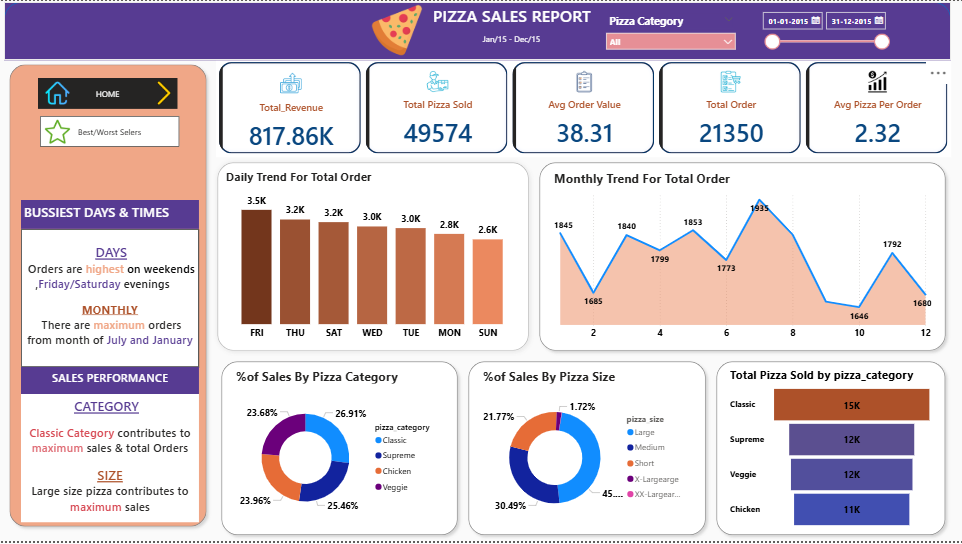

What the dashboard file says about the page in this screenshot:
{"tool":"powerbi","page":{"name":"HOME","canvas":[1580,880],"ordinal":0},"visuals":[{"type":"cardVisual","fields":{"Data":["pizza_sales.Total_Revenue","pizza_sales.Total Pizza Sold","pizza_sales.Avg Order Value","pizza_sales.Total Order","pizza_sales.Avg Pizza Per Order"]},"box":[360.2,95.1,1197.7,159.7],"z":0},{"type":"shape","box":[14.7,1.6,1543.3,94.5],"z":1000},{"type":"textbox","box":[695.9,0,293.3,48.9],"z":2000},{"type":"textbox","box":[779,47.3,125.5,32.6],"z":3000},{"type":"image","box":[565.5,0,179.3,94.5],"z":4000},{"type":"shape","box":[353.4,254.8,525,324.5],"z":5000},{"type":"columnChart","title":"Daily Trend For Total  Order","fields":{"Category":["pizza_sales.Order Day"],"Y":["pizza_sales.Total Order"]},"box":[371.6,273.8,487.3,286.8],"z":6000},{"type":"shape","box":[878.3,254.8,679.6,324.5],"z":7000},{"type":"areaChart","title":"Monthly Trend For Total Order","fields":{"Category":["pizza_sales.Month Number"],"Y":["pizza_sales.Total Order"]},"box":[905.5,273.5,625.2,287.1],"z":8000},{"type":"shape","box":[360.2,579.3,402.6,300.7],"z":9000},{"type":"shape","box":[762.8,579.3,404.3,300.7],"z":10000},{"type":"shape","box":[1167.2,579.3,390.8,300.7],"z":11000},{"type":"donutChart","title":"%of Sales By Pizza Category","fields":{"Category":["pizza_sales.pizza_category"],"Y":["pizza_sales.Total_Revenue"]},"box":[387.4,596.3,344.9,268.4],"z":12000},{"type":"donutChart","title":"%of Sales By Pizza Size","fields":{"Y":["pizza_sales.Total_Revenue"],"Category":["pizza_sales.pizza_size"]},"box":[790,596.3,344.9,268.4],"z":13000},{"type":"funnel","fields":{"Category":["pizza_sales.pizza_category"],"Y":["pizza_sales.Total Pizza Sold"]},"box":[1192.6,596.3,339.8,268.4],"z":14000},{"type":"shape","box":[14.7,94.5,339,770.8],"z":15000},{"type":"textbox","box":[42.4,324.3,290.1,47.3],"z":16000},{"type":"textbox","box":[42.4,371.6,290.1,224.9],"z":17000},{"type":"textbox","box":[42.4,596.4,290.1,44],"z":18000},{"type":"textbox","box":[42.4,640.4,290.1,208.6],"z":19000},{"type":"slicer","fields":{"Values":["pizza_sales.pizza_category"]},"box":[985.9,13,231.4,66.8],"z":20000},{"type":"slicer","fields":{"Values":["pizza_sales.order_date"]},"box":[1238.5,8.1,228.1,81.5],"z":21000},{"type":"pageNavigator","box":[69.7,125.7,227.7,51],"z":22000},{"type":"pageNavigator","box":[73.1,186.9,227.7,51],"z":23000},{"type":"image","box":[251.4,125.7,49.3,49.3],"z":24000},{"type":"image","box":[73.1,125.7,56.1,49.3],"z":24001},{"type":"image","box":[73.1,186.9,56.1,51],"z":24002}]}

Visuals, with their boxes in screenshot pixels (x1, y1, x2, y2), scaled from the page's 1580x880 canvas onto the 962x544 screenshot:
cardVisual - pizza_sales.Total_Revenue x pizza_sales.Total Pizza Sold: 219:59:949:158
shape: 9:1:949:59
textbox: 424:0:602:30
textbox: 474:29:551:49
image: 344:0:453:58
shape: 215:158:535:358
"Daily Trend For Total  Order" columnChart: 226:169:523:347
shape: 535:158:949:358
"Monthly Trend For Total Order" areaChart: 551:169:932:347
shape: 219:358:464:543
shape: 464:358:711:543
shape: 711:358:949:543
"%of Sales By Pizza Category" donutChart: 236:369:446:535
"%of Sales By Pizza Size" donutChart: 481:369:691:535
funnel - pizza_sales.pizza_category x pizza_sales.Total Pizza Sold: 726:369:933:535
shape: 9:58:215:535
textbox: 26:200:202:230
textbox: 26:230:202:369
textbox: 26:369:202:396
textbox: 26:396:202:525
slicer - pizza_sales.pizza_category: 600:8:741:49
slicer - pizza_sales.order_date: 754:5:893:55
pageNavigator: 42:78:181:109
pageNavigator: 45:116:183:147
image: 153:78:183:108
image: 45:78:79:108
image: 45:116:79:147
